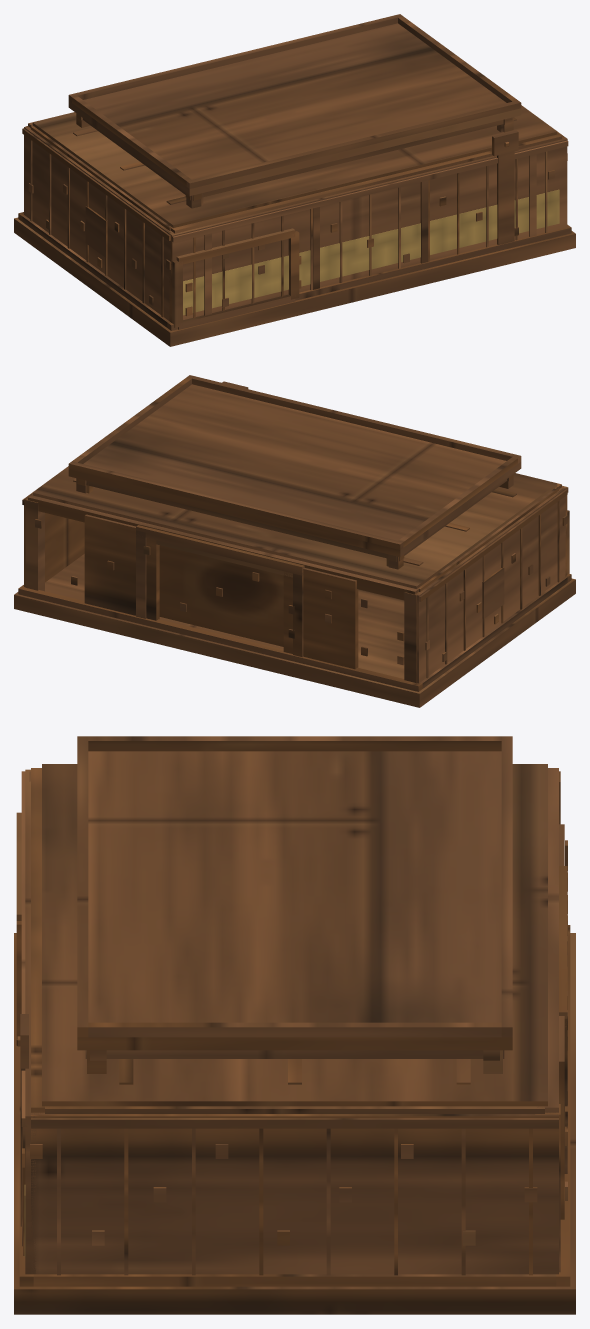
3 renders of one model, top to bottom at view 1: azimuth 30°, elevation 25°; view 2: azimuth 150°, elevation 25°; view 3: azimuth 270°, elevation 25°, orthographic. The views are drawn at different scales.
Parts seen in each view (by area): view 1: SM_HDBF_BoxFarm_Intermediate_LOD1; view 2: SM_HDBF_BoxFarm_Intermediate_LOD1; view 3: SM_HDBF_BoxFarm_Intermediate_LOD1.
Boxes of the visible parts, x1,y1,x2,y2 form: SM_HDBF_BoxFarm_Intermediate_LOD1: (14, 14, 575, 346); SM_HDBF_BoxFarm_Intermediate_LOD1: (14, 375, 575, 707); SM_HDBF_BoxFarm_Intermediate_LOD1: (14, 736, 575, 1314).
Bounding box in the file's own units: 3 × 1 × 2.
Materials: 3 (3 with a texture image).
